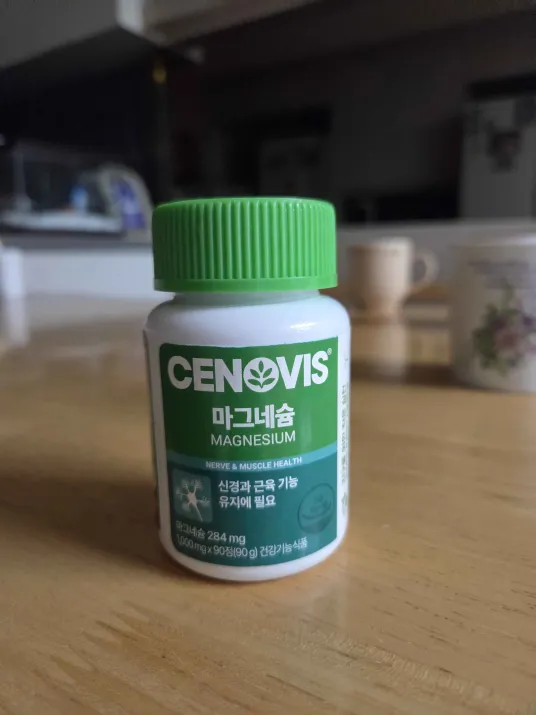supplement_label: (155, 329, 346, 572)
